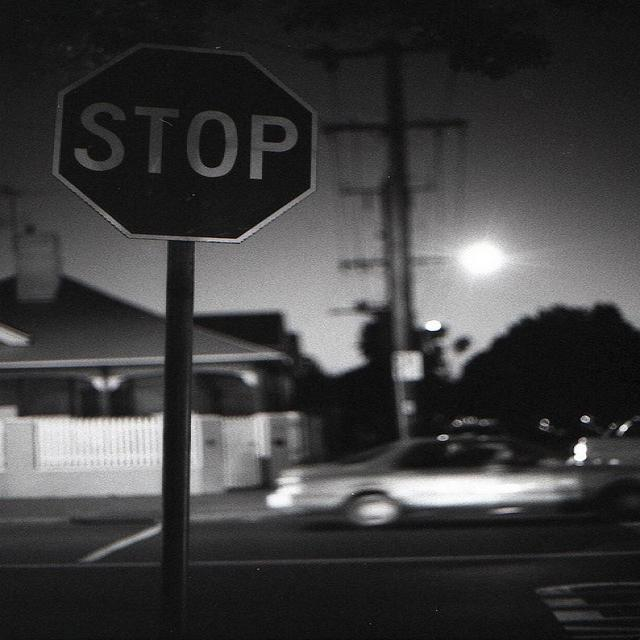car: (266, 432, 636, 524)
pole: (146, 241, 199, 629)
